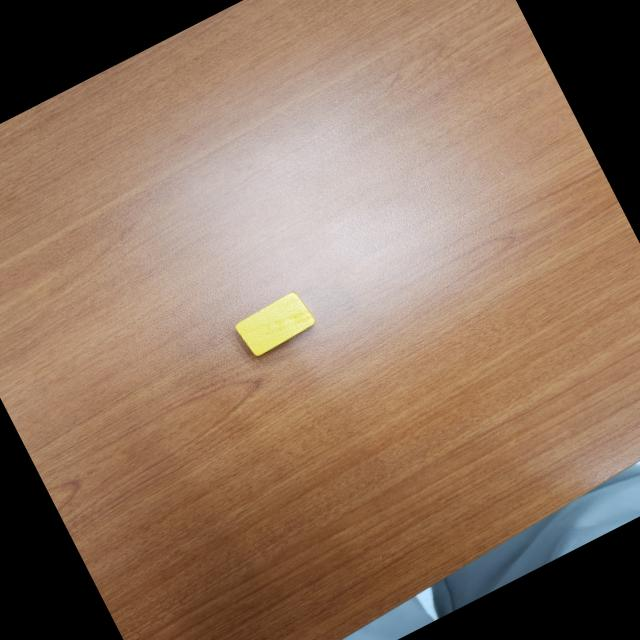yellow: (229, 286, 321, 362)
